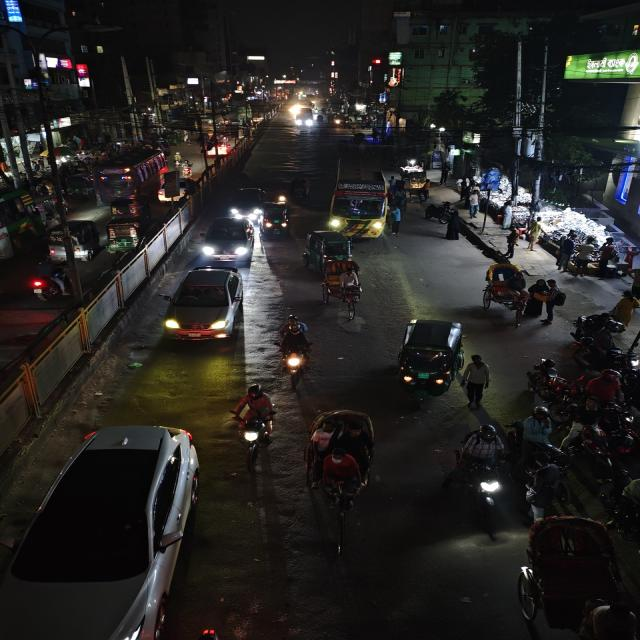bus: (327, 150, 392, 238), (0, 182, 63, 265), (90, 149, 168, 202)
car: (3, 422, 205, 640), (164, 263, 248, 344), (196, 215, 257, 263), (227, 185, 266, 221), (107, 196, 146, 217)
cng: (395, 314, 467, 404), (46, 216, 101, 264), (304, 229, 354, 267), (104, 214, 145, 253), (261, 201, 292, 237)
motorcycle: (451, 424, 508, 514), (229, 382, 281, 462), (566, 406, 620, 466), (276, 313, 315, 389), (528, 357, 576, 406), (580, 368, 629, 414), (25, 257, 72, 303)
pedestrian: (461, 352, 493, 408), (526, 278, 562, 324), (555, 231, 578, 273), (444, 202, 465, 240)
rickshaw: (512, 511, 637, 640), (299, 405, 383, 552), (477, 260, 533, 320), (317, 257, 368, 321)
